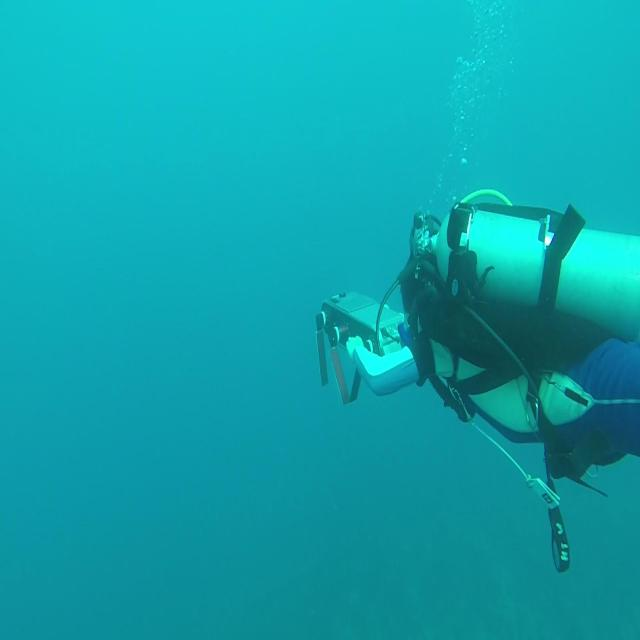human: (316, 189, 639, 572)
